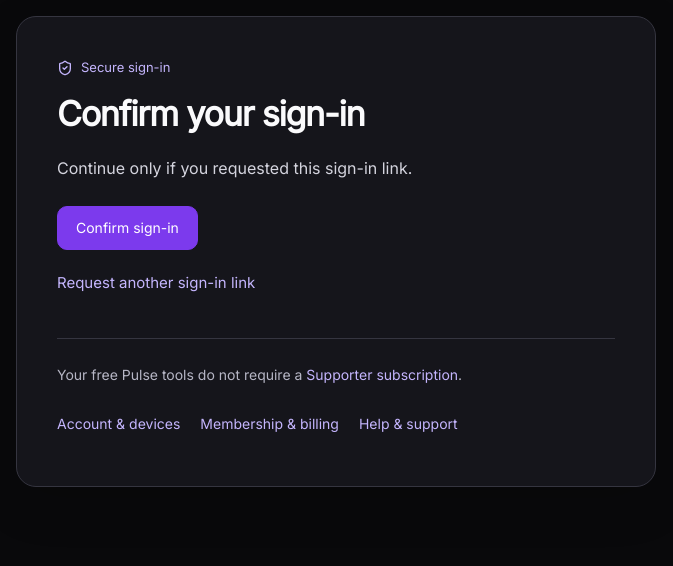
Test: billing sign-in continuation › retains the destination for a failed confirmation and retry
Click the button "Confirm sign-in".
click(127, 228)  # box [57,206,198,250]
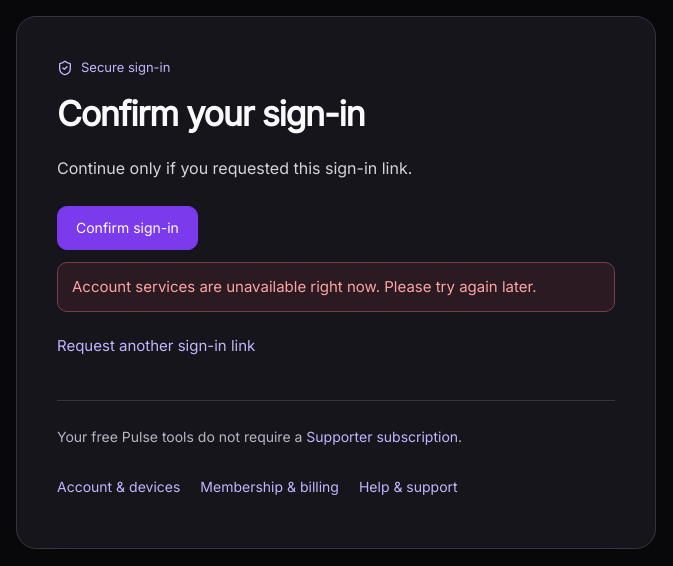
Check: the message "Account services are unavailable right now. Please try again later." is shown, box [57,262,615,312]
Click the button "Confirm sign-in".
click(127, 228)  # box [57,206,198,250]
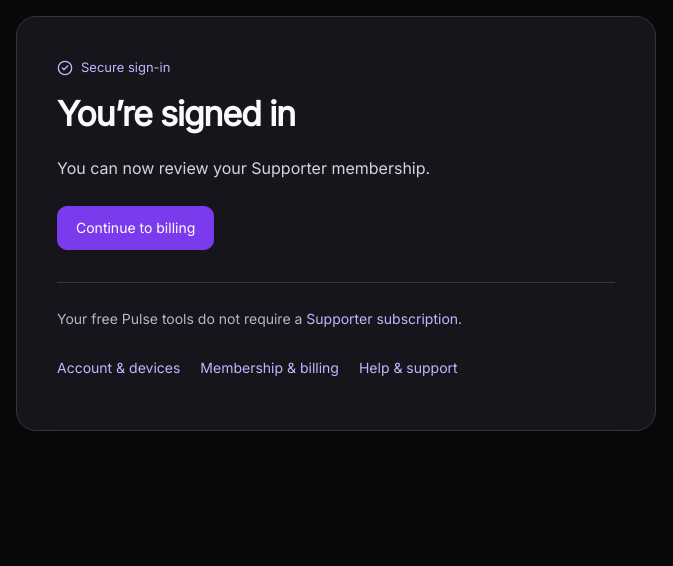
Check: the link "Continue to billing" is shown, box [57,206,214,250]
